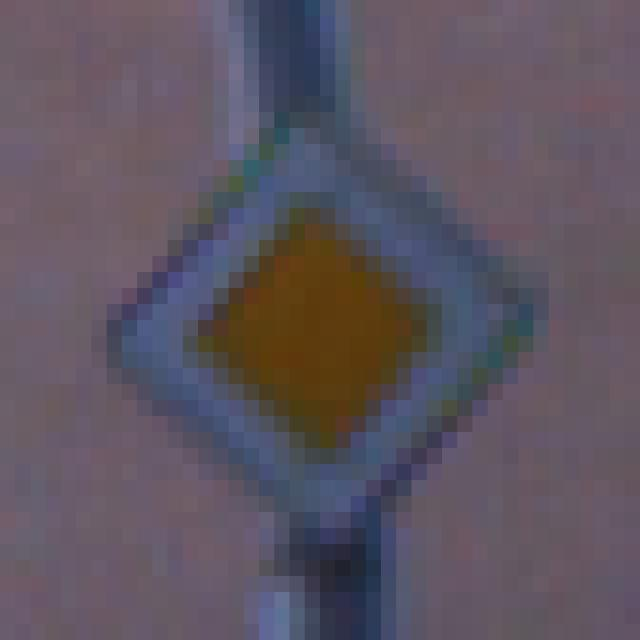Main Road: (92, 97, 565, 561)
